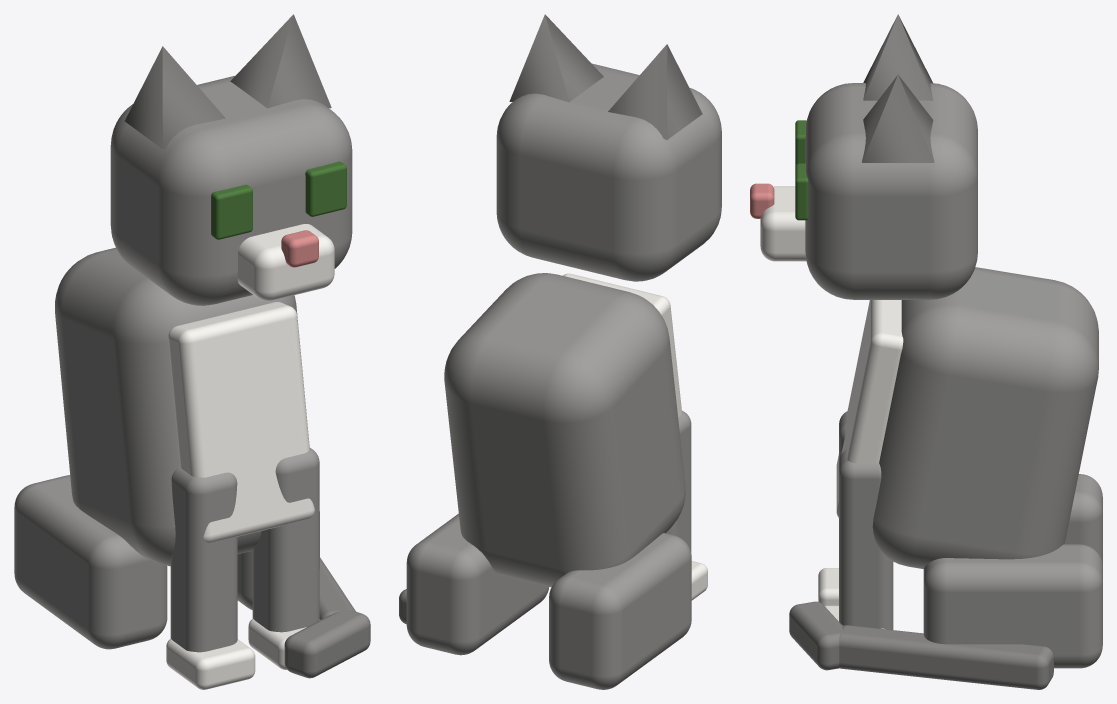
File: base-cat-sitting-full.glb
The picture shows the model from 3 angles, left to right: view 1: azimuth 30°, elevation 25°; view 2: azimuth 150°, elevation 25°; view 3: azimuth 270°, elevation 25°; orthographic projection. The views are drawn at different scales.
Visible parts, largest first — view 1: PM_FUR_MAIN_0_150_22, PM_FUR_MAIN_0_70_-6, PM_FUR_SECONDARY_0_76_28, PM_FUR_MAIN_-26_19_-16, PM_FUR_MAIN_-14_34_30, PM_FUR_MAIN_14_34_30, PM_EARS_peak_l, PM_EARS_peak_r, PM_FUR_SECONDARY_0_139_53, PM_TAIL_20_6_44, PM_FUR_SECONDARY_-14_5_34, PM_EYES_-16_157_50 (+5 smaller); view 2: PM_FUR_MAIN_0_70_-6, PM_FUR_MAIN_0_150_22, PM_FUR_MAIN_-26_19_-16, PM_FUR_MAIN_26_19_-16, PM_EARS_peak_l, PM_EARS_peak_r, PM_FUR_MAIN_-14_34_30, PM_FUR_SECONDARY_0_76_28, PM_FUR_SECONDARY_-14_5_34; view 3: PM_FUR_MAIN_0_70_-6, PM_FUR_MAIN_0_150_22, PM_FUR_MAIN_26_19_-16, PM_TAIL_36_6_6, PM_FUR_MAIN_14_34_30, PM_FUR_SECONDARY_0_76_28, PM_EARS_peak_r, PM_EARS_peak_l, PM_FUR_SECONDARY_0_139_53, PM_TAIL_20_6_44, PM_FUR_MAIN_-26_19_-16, PM_FUR_SECONDARY_-14_5_34 (+2 smaller).
Part boxes in pixels (x1,y1,x2,y2): PM_FUR_MAIN_0_150_22: [110, 75, 352, 305]; PM_FUR_MAIN_0_70_-6: [55, 247, 309, 566]; PM_FUR_SECONDARY_0_76_28: [168, 302, 314, 542]; PM_FUR_MAIN_-26_19_-16: [14, 475, 167, 649]; PM_FUR_MAIN_-14_34_30: [170, 467, 237, 652]; PM_FUR_MAIN_14_34_30: [252, 447, 319, 632]; PM_EARS_peak_l: [124, 46, 225, 148]; PM_EARS_peak_r: [230, 14, 331, 108]; PM_FUR_SECONDARY_0_139_53: [237, 224, 334, 301]; PM_TAIL_20_6_44: [284, 609, 370, 678]; PM_FUR_SECONDARY_-14_5_34: [166, 639, 255, 689]; PM_EYES_-16_157_50: [211, 184, 252, 239]; PM_FUR_MAIN_0_70_-6: [444, 273, 685, 587]; PM_FUR_MAIN_0_150_22: [496, 63, 721, 281]; PM_FUR_MAIN_-26_19_-16: [549, 533, 691, 689]; PM_FUR_MAIN_26_19_-16: [406, 513, 548, 655]; PM_EARS_peak_l: [608, 44, 702, 139]; PM_EARS_peak_r: [509, 14, 603, 102]; PM_FUR_MAIN_-14_34_30: [666, 410, 691, 552]; PM_FUR_SECONDARY_0_76_28: [563, 273, 681, 416]; PM_FUR_SECONDARY_-14_5_34: [691, 561, 707, 600]; PM_FUR_MAIN_0_70_-6: [872, 267, 1098, 568]; PM_FUR_MAIN_0_150_22: [805, 83, 977, 299]; PM_FUR_MAIN_26_19_-16: [923, 544, 1102, 668]; PM_TAIL_36_6_6: [839, 625, 1053, 689]; PM_FUR_MAIN_14_34_30: [839, 449, 893, 629]; PM_FUR_SECONDARY_0_76_28: [836, 300, 903, 517]; PM_EARS_peak_r: [862, 74, 934, 162]; PM_EARS_peak_l: [863, 14, 933, 100]; PM_FUR_SECONDARY_0_139_53: [760, 186, 806, 261]; PM_TAIL_20_6_44: [789, 601, 842, 670]; PM_FUR_MAIN_-26_19_-16: [1064, 474, 1102, 566]; PM_FUR_SECONDARY_-14_5_34: [818, 568, 838, 605].
Size of the model in its own units: 0.0887 by 0.2008 by 0.1103.
